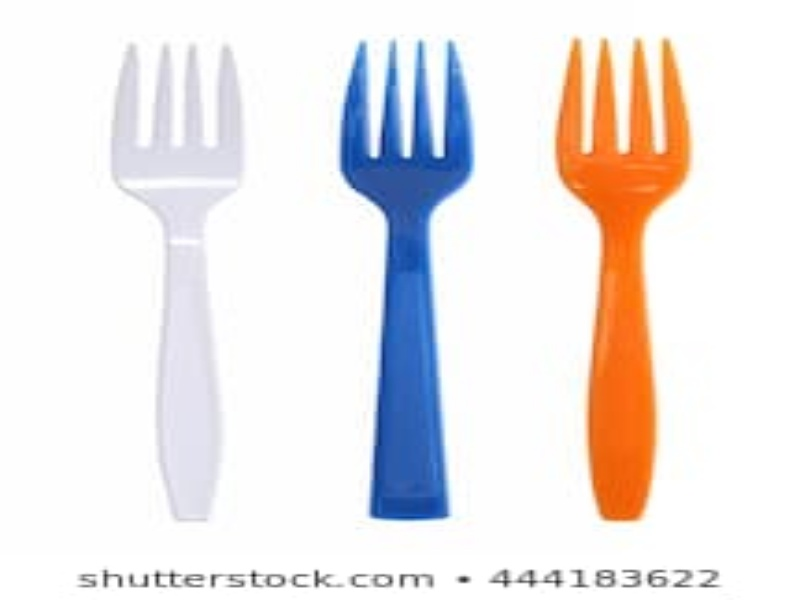plastic-silverware: (554, 34, 694, 523), (107, 39, 246, 523), (338, 37, 477, 521)
